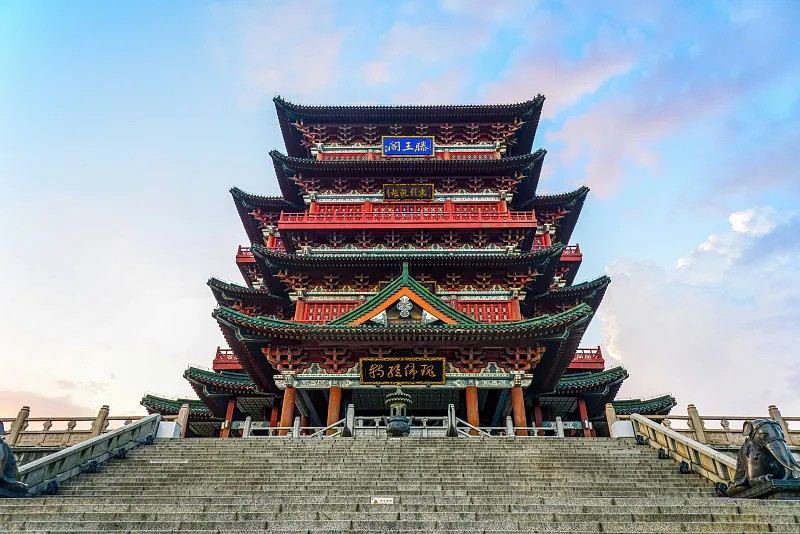Teng: (139, 92, 678, 437)
